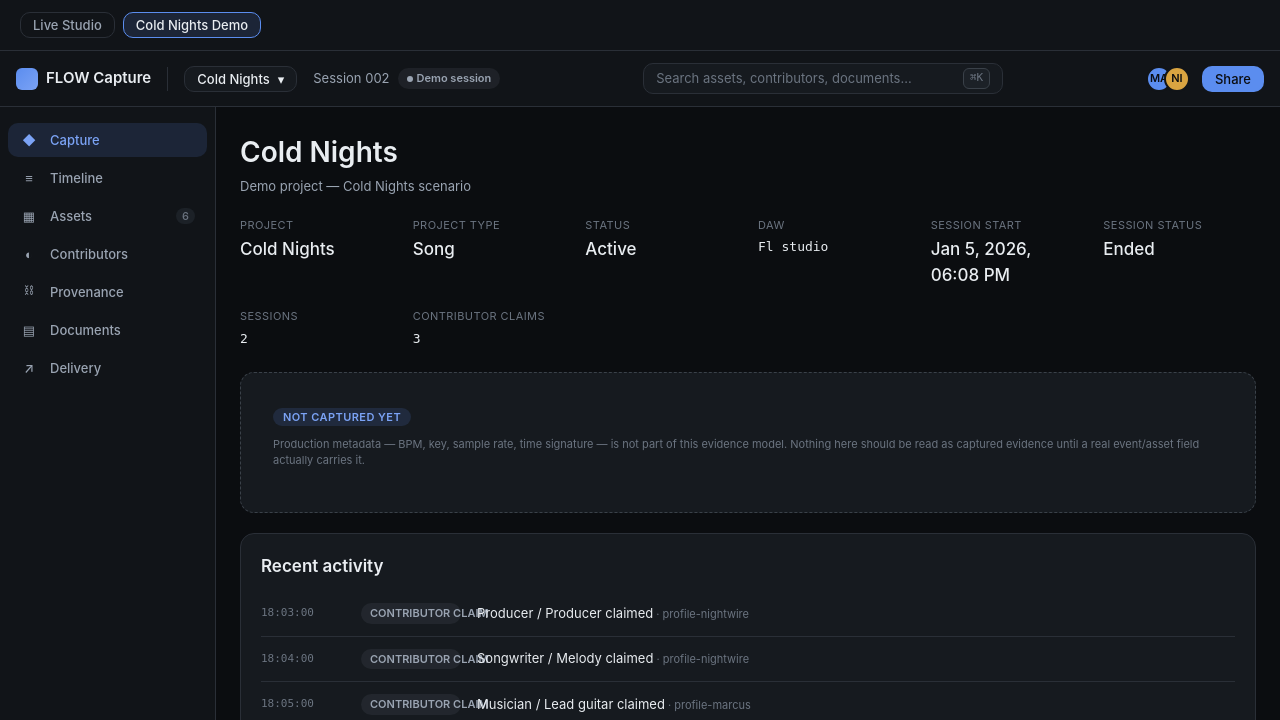
Test: Contributors view › labels every contributor claim "Claimed", never "Verified"
Click the button "◐ Contributors" at (108, 254), box left=8, top=237, right=207, bottom=271
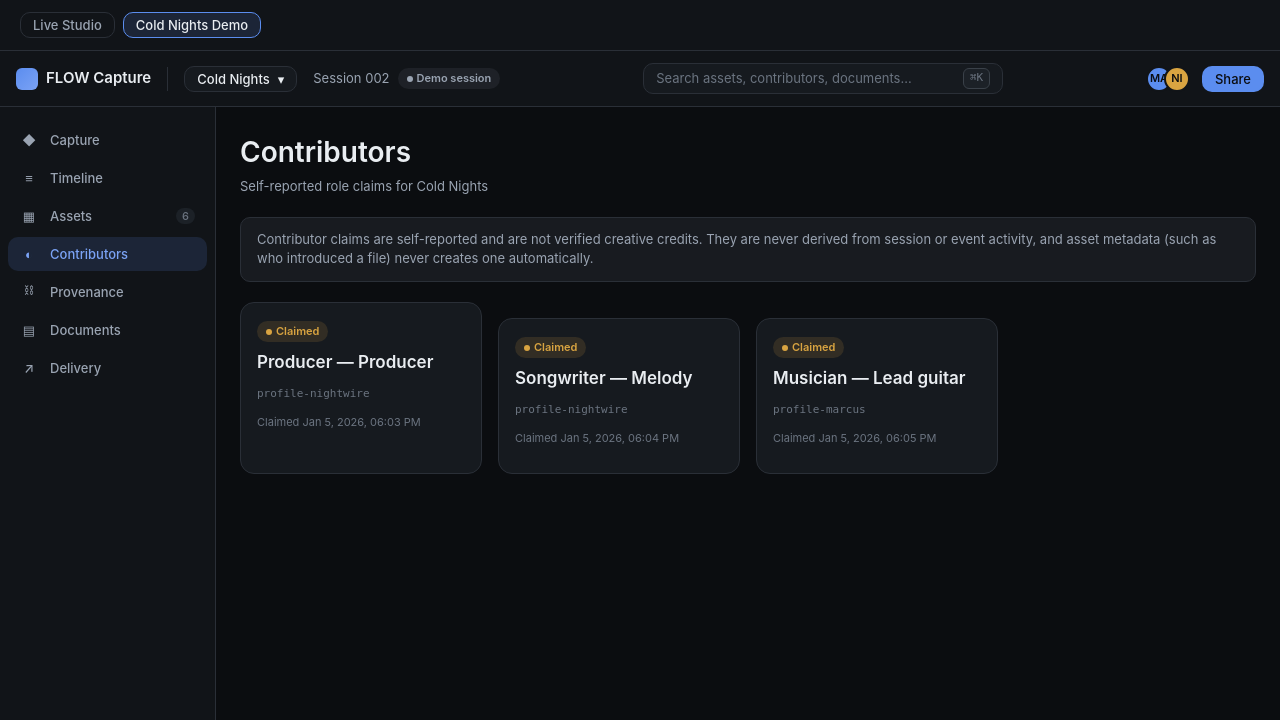
Check: the text "Claimed" is shown 3 times, box left=257, top=321, right=328, bottom=342; left=515, top=337, right=586, bottom=358; left=773, top=337, right=844, bottom=358
